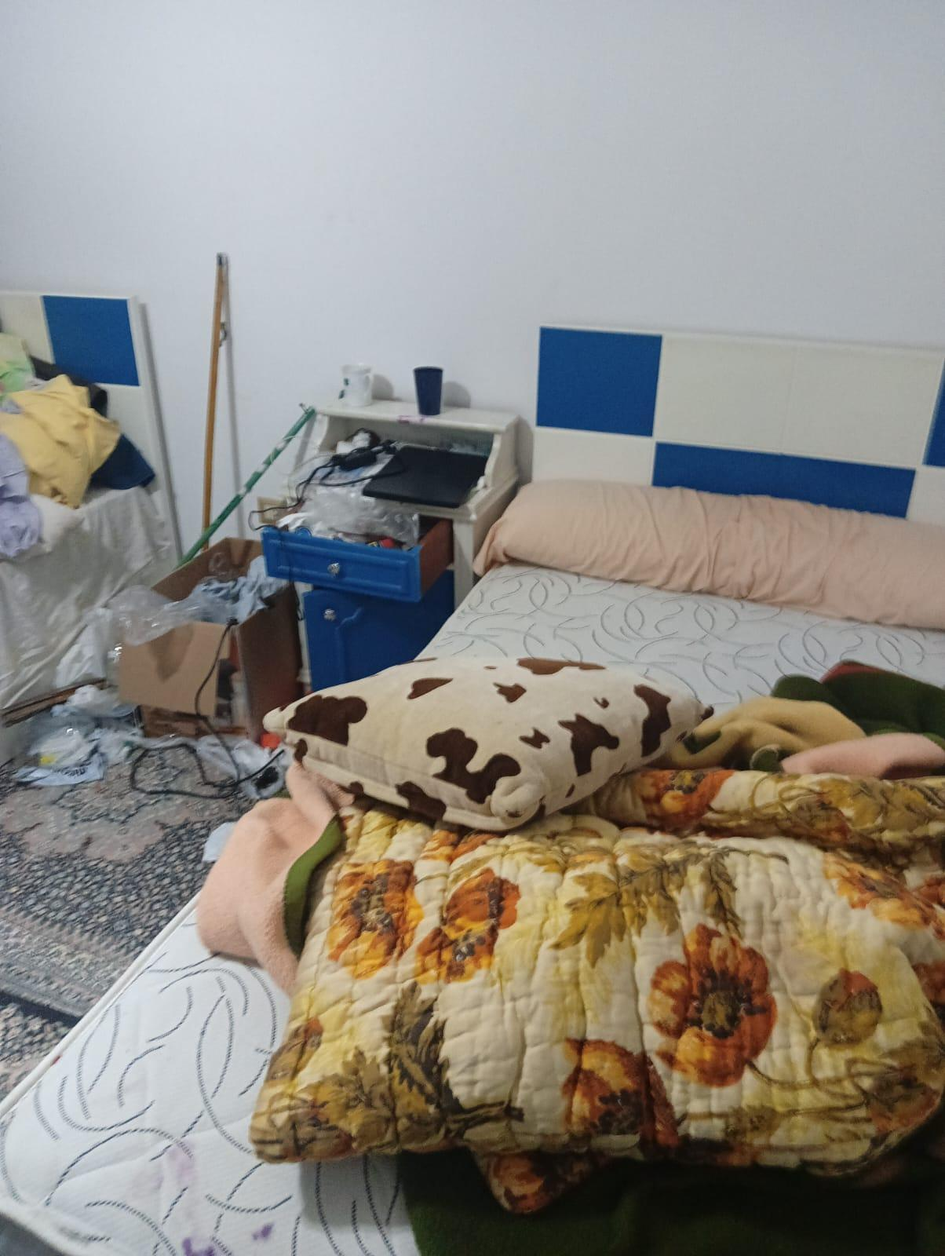cup: (339, 363, 373, 409), (414, 367, 443, 416)
